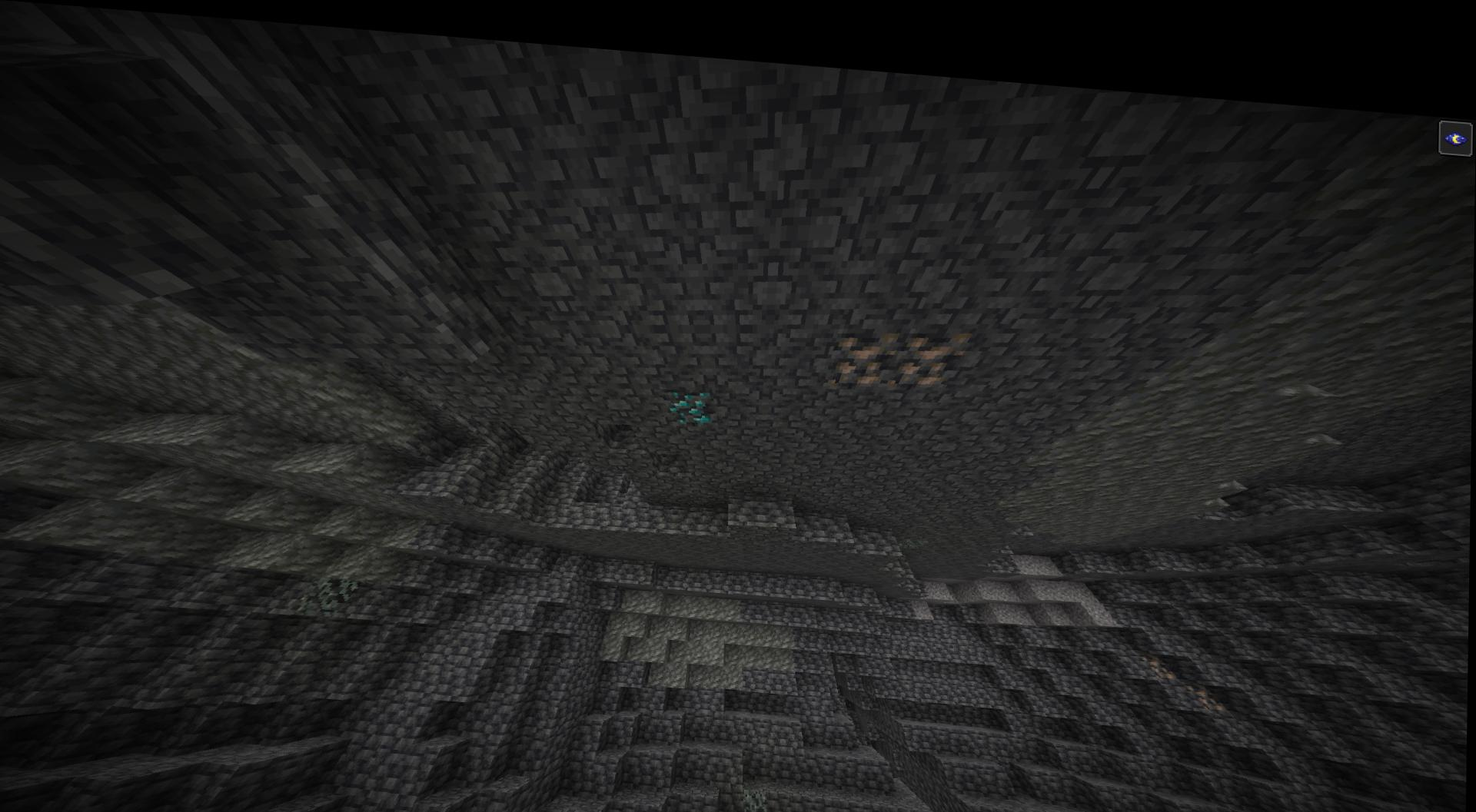diamond ore: (669, 376, 718, 417)
iron ore: (898, 311, 963, 375), (831, 315, 896, 373), (1188, 659, 1225, 691), (1145, 633, 1180, 659)
